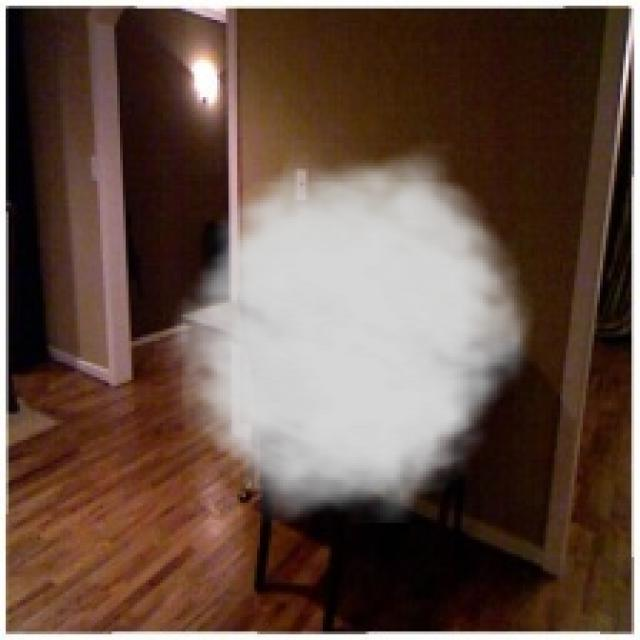Smoke: (154, 137, 546, 523)
